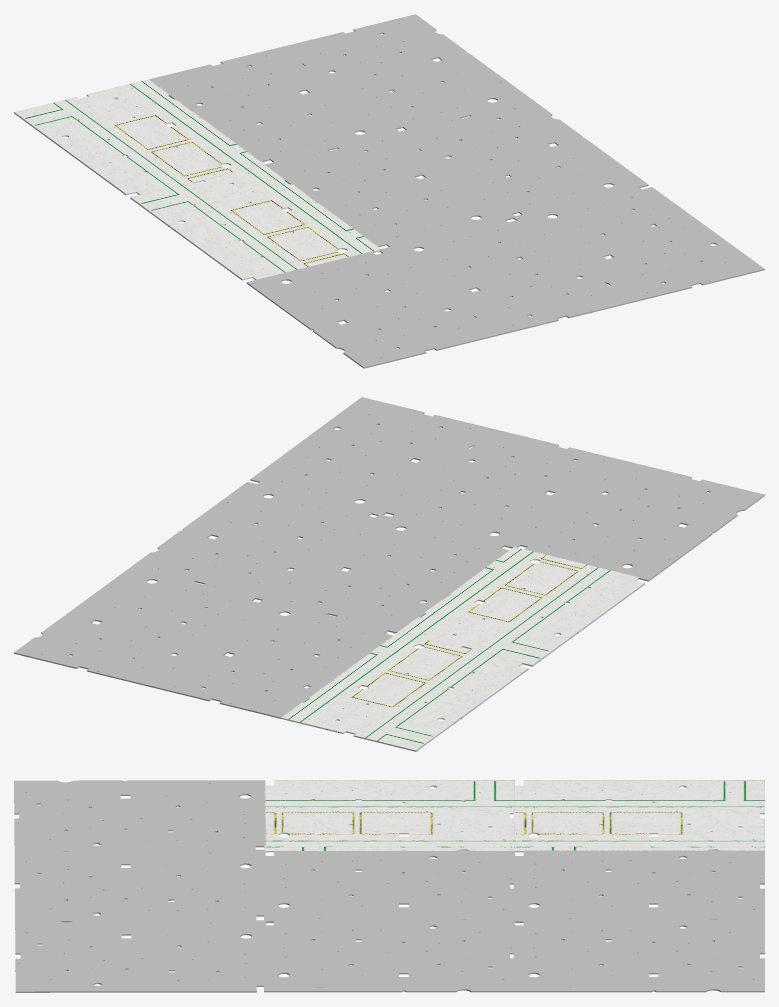
The model's file is large_holed_floor.dae.
The picture shows the model from 3 angles, top to bottom: view 1: azimuth 30°, elevation 25°; view 2: azimuth 150°, elevation 25°; view 3: azimuth 270°, elevation 25°; orthographic projection. The views are drawn at different scales.
Visible parts, largest first — view 1: aws3.008, aws3, aws3.005, aws3.006, aws3.007, aws3.002, aws3.004, aws3.001, aws3.003; view 2: aws3, aws3.005, aws3.001, aws3.008, aws3.007, aws3.002, aws3.006, aws3.003, aws3.004; view 3: aws3.006, aws3.002, aws3.008, aws3.003, aws3, aws3.005, aws3.004, aws3.001, aws3.007.
Part boxes in pixels (x1,y1,x2,y2): aws3.008: [246, 251, 497, 368]; aws3: [14, 79, 264, 195]; aws3.005: [130, 164, 380, 280]; aws3.006: [513, 187, 764, 302]; aws3.007: [379, 220, 631, 335]; aws3.002: [281, 14, 531, 129]; aws3.004: [264, 131, 515, 246]; aws3.001: [148, 47, 398, 162]; aws3.003: [399, 99, 648, 214]; aws3: [281, 632, 528, 751]; aws3.005: [397, 547, 644, 666]; aws3.001: [147, 600, 392, 718]; aws3.008: [519, 462, 764, 581]; aws3.007: [385, 429, 630, 548]; aws3.002: [14, 567, 258, 686]; aws3.006: [250, 397, 495, 515]; aws3.003: [130, 482, 374, 600]; aws3.004: [266, 514, 508, 633]; aws3.006: [15, 920, 266, 992]; aws3.002: [513, 920, 764, 992]; aws3.008: [14, 780, 265, 851]; aws3.003: [264, 920, 514, 992]; aws3: [513, 780, 764, 852]; aws3.005: [264, 780, 514, 852]; aws3.004: [264, 850, 514, 922]; aws3.001: [513, 850, 764, 922]; aws3.007: [14, 849, 266, 922].
Bounding box in the file's own units: 41.63 × 62.5 × 0.1243.
